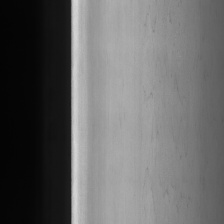silk_spot: (140, 13, 197, 209)
